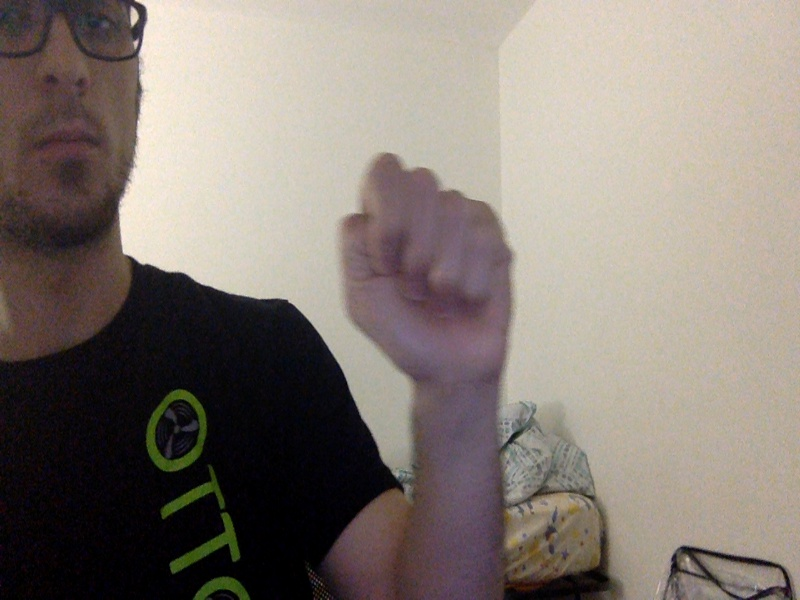0-hand: (339, 151, 518, 387)
